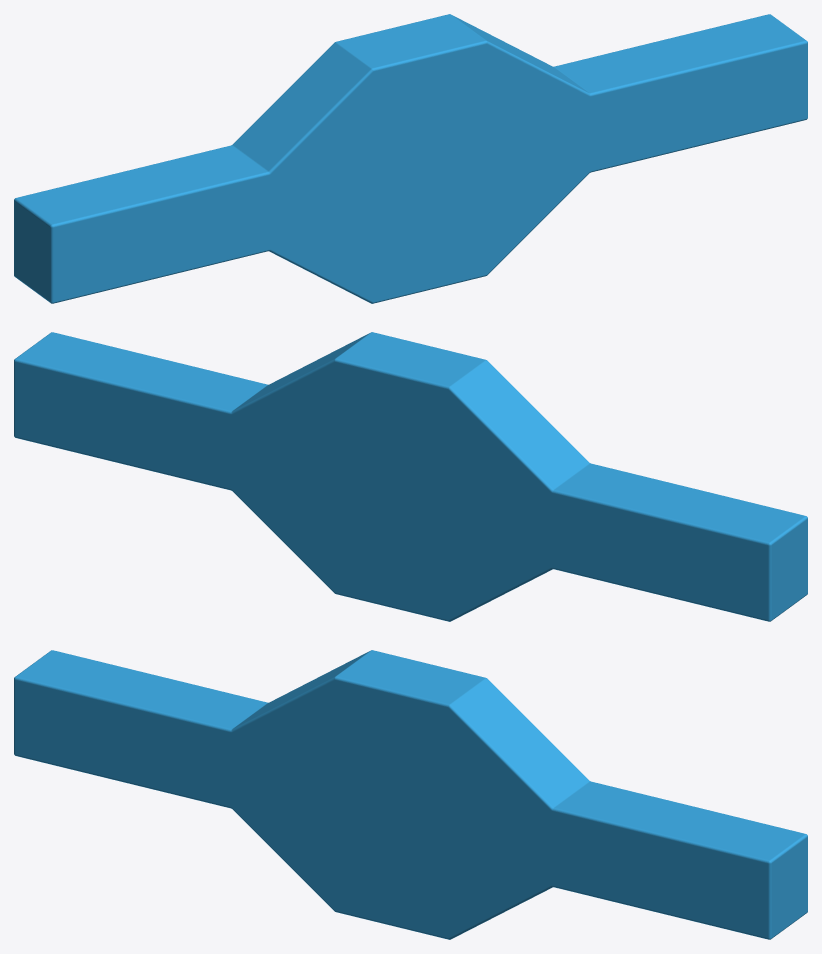
The model's file is baseframe.dae.
3 renders of one model, top to bottom at view 1: azimuth 30°, elevation 25°; view 2: azimuth 150°, elevation 25°; view 3: azimuth 330°, elevation 25°, orthographic.
Parts seen in each view (by area): view 1: Grundrahmen; view 2: Grundrahmen; view 3: Grundrahmen.
Boxes of the visible parts, left/top/right/bottom form: Grundrahmen: left=14, top=14, right=807, bottom=303; Grundrahmen: left=14, top=332, right=807, bottom=621; Grundrahmen: left=14, top=650, right=807, bottom=939.
Size of the model in its own units: 3.3 by 0.29 by 0.98.
